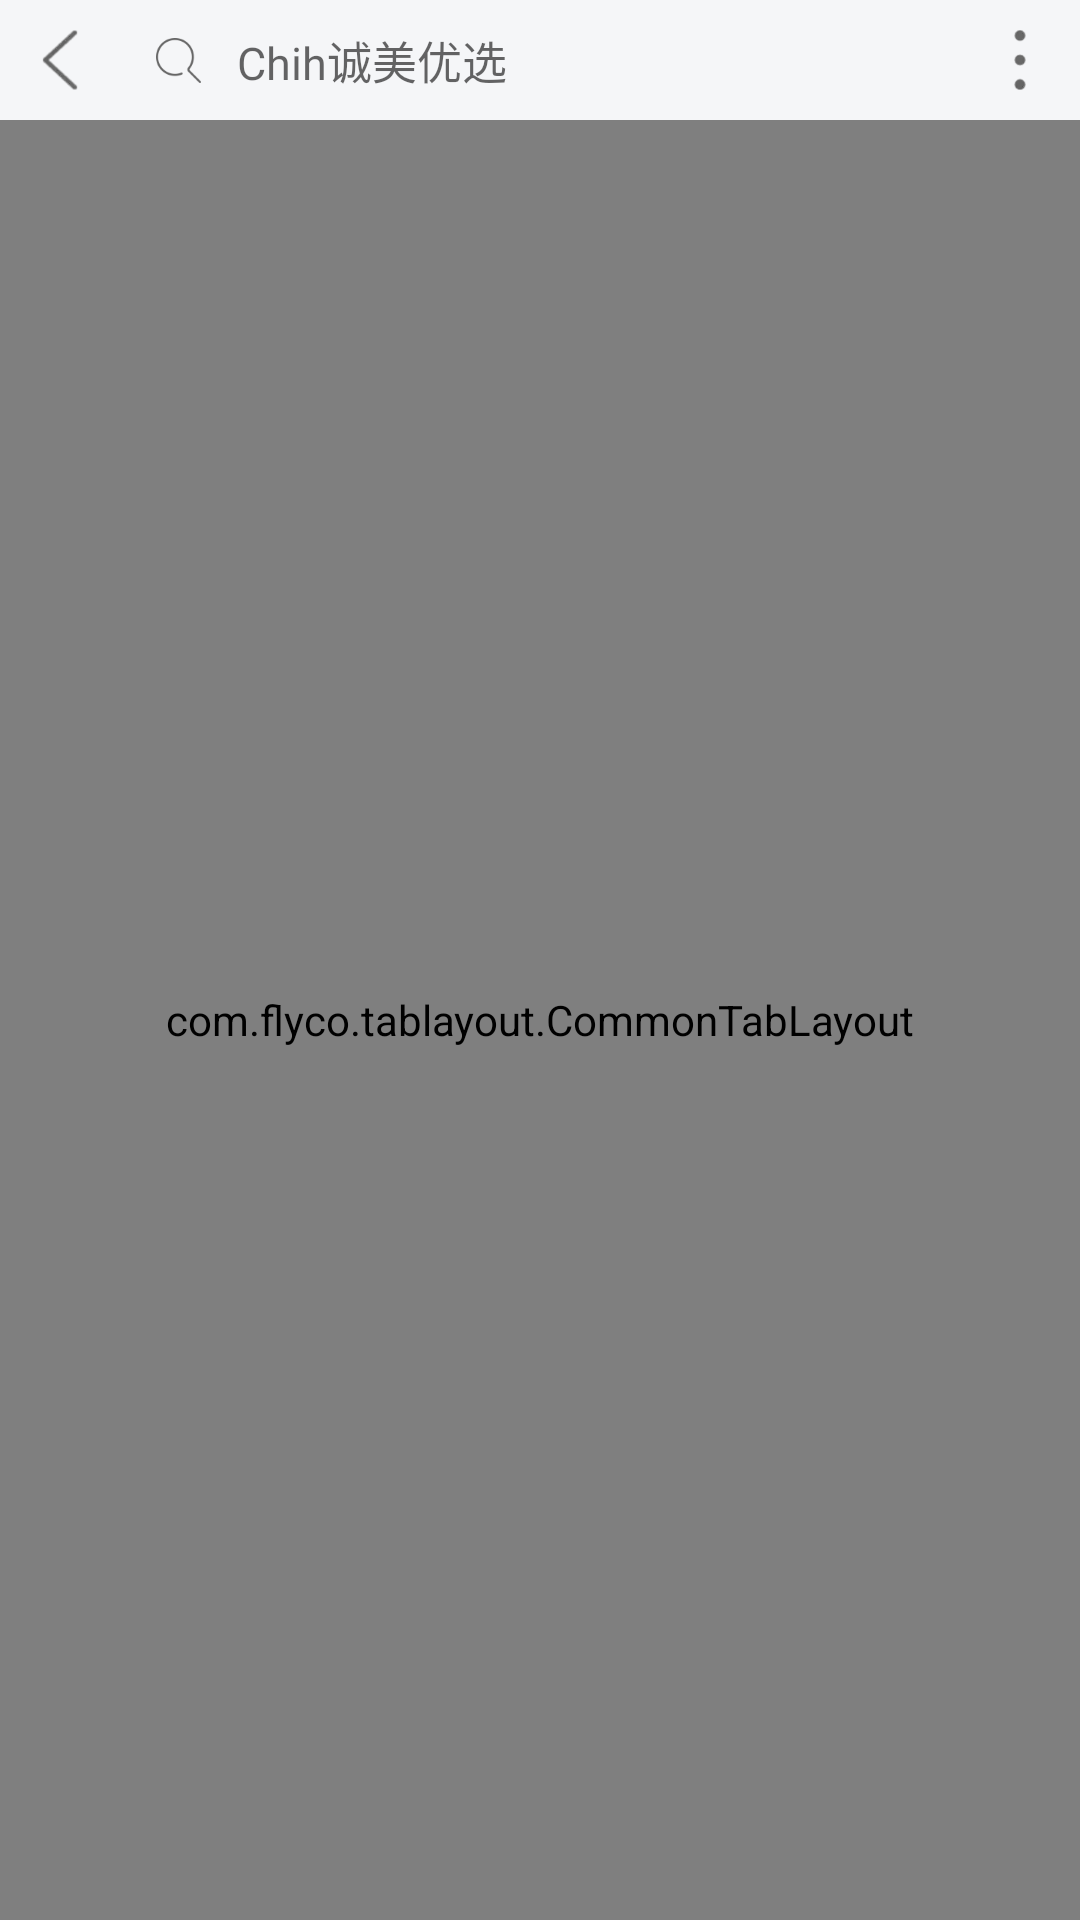

Named icons in this screenshot (1080px×1920px) and their bounding boxes, (x1, y1, x2, y2):
menu: (1014, 30, 1026, 90)
return pager: (43, 30, 77, 90)
search: (156, 38, 201, 83)
